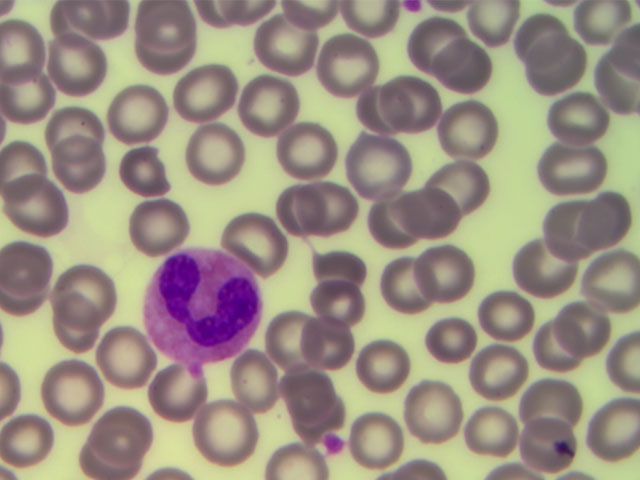Platelets: (322, 433, 342, 451)
RBC: (85, 408, 147, 472), (111, 83, 166, 144), (176, 61, 231, 122), (192, 124, 247, 185), (131, 134, 186, 195), (130, 183, 185, 244), (51, 141, 106, 202), (43, 102, 98, 163), (10, 180, 65, 241), (59, 251, 114, 312), (62, 303, 117, 364), (102, 321, 157, 382), (45, 355, 100, 416), (200, 403, 255, 464), (229, 349, 284, 410), (259, 308, 314, 369), (295, 310, 350, 371), (284, 361, 339, 422), (347, 407, 402, 468), (400, 378, 455, 439), (358, 334, 413, 395), (423, 314, 478, 375), (306, 267, 361, 328), (313, 241, 368, 302), (237, 206, 292, 267), (264, 180, 319, 241), (301, 176, 356, 237), (280, 118, 335, 179), (239, 78, 294, 139), (258, 9, 313, 70), (318, 35, 373, 96), (363, 79, 418, 140), (385, 69, 440, 130), (356, 136, 411, 197), (358, 199, 413, 260), (396, 183, 451, 244), (429, 152, 484, 213), (436, 106, 491, 167), (443, 49, 498, 110), (412, 21, 467, 82), (504, 6, 559, 67), (533, 38, 588, 99), (555, 82, 610, 143), (551, 127, 606, 188), (582, 181, 637, 242), (553, 199, 608, 260), (516, 236, 571, 297), (580, 261, 635, 322), (555, 290, 610, 351), (527, 321, 582, 382), (522, 349, 577, 410), (521, 401, 576, 462), (465, 398, 520, 459), (467, 352, 522, 413), (481, 297, 536, 358), (585, 401, 640, 462), (134, 7, 189, 68), (1, 241, 55, 302), (1, 408, 55, 469), (1, 61, 55, 122), (49, 36, 104, 95), (154, 363, 205, 422)
WBC: (144, 250, 267, 363)
